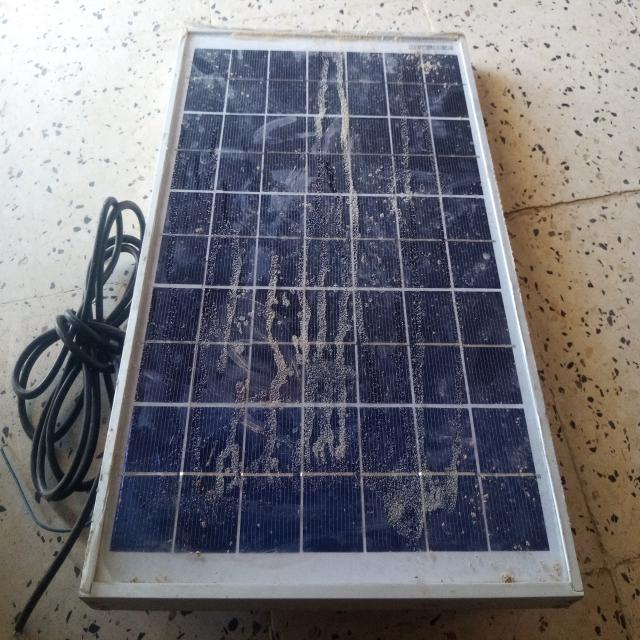faulty: (83, 31, 578, 591)
